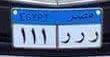1: (41, 27, 49, 45), (30, 27, 37, 46), (20, 26, 27, 45)
raa: (73, 30, 85, 46), (60, 31, 71, 46), (88, 31, 99, 45)
